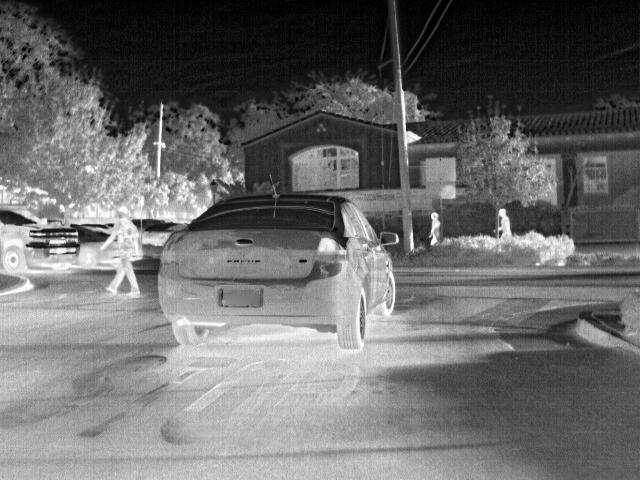car: (160, 191, 397, 349), (1, 206, 78, 271), (78, 222, 113, 267), (140, 225, 176, 245), (137, 214, 158, 230), (163, 219, 185, 229)
person: (110, 204, 139, 301), (429, 209, 443, 244), (497, 204, 511, 237)
